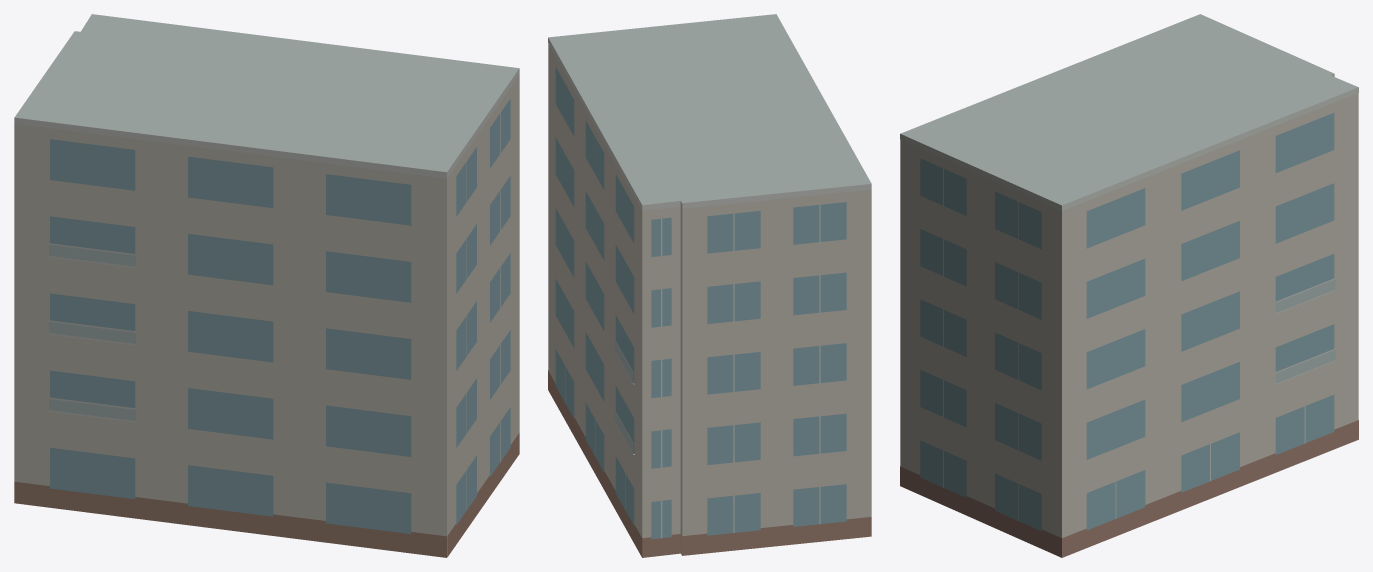
The model's file is survey-upis-32582967.glb.
3 renders of one model, left to right at view 1: azimuth 30°, elevation 25°; view 2: azimuth 150°, elevation 25°; view 3: azimuth 270°, elevation 25°, orthographic. The views are drawn at different scales.
Visible parts, largest first — view 1: survey-upis-32582967.tmp; view 2: survey-upis-32582967.tmp; view 3: survey-upis-32582967.tmp.
Part boxes in pixels (bbox=[...]): survey-upis-32582967.tmp: bbox=[14, 14, 519, 557]; survey-upis-32582967.tmp: bbox=[548, 14, 871, 557]; survey-upis-32582967.tmp: bbox=[900, 14, 1358, 557].
Bounding box in the file's own units: 17.78 × 15.25 × 17.99.
